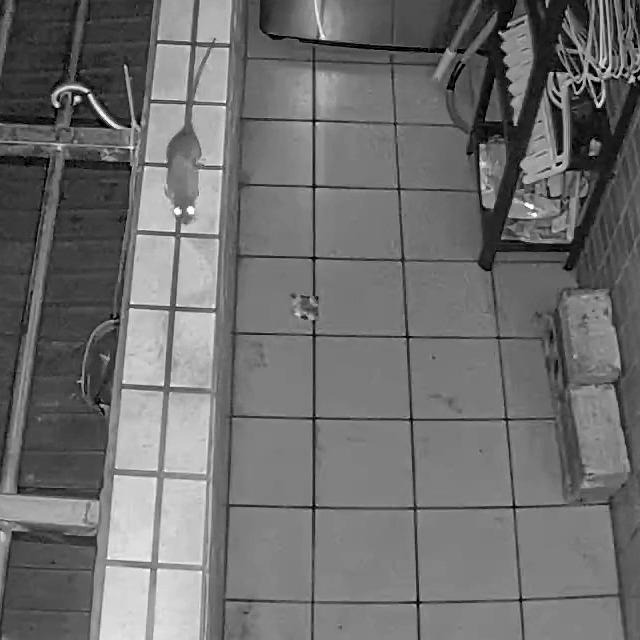rat: (164, 37, 214, 226)
